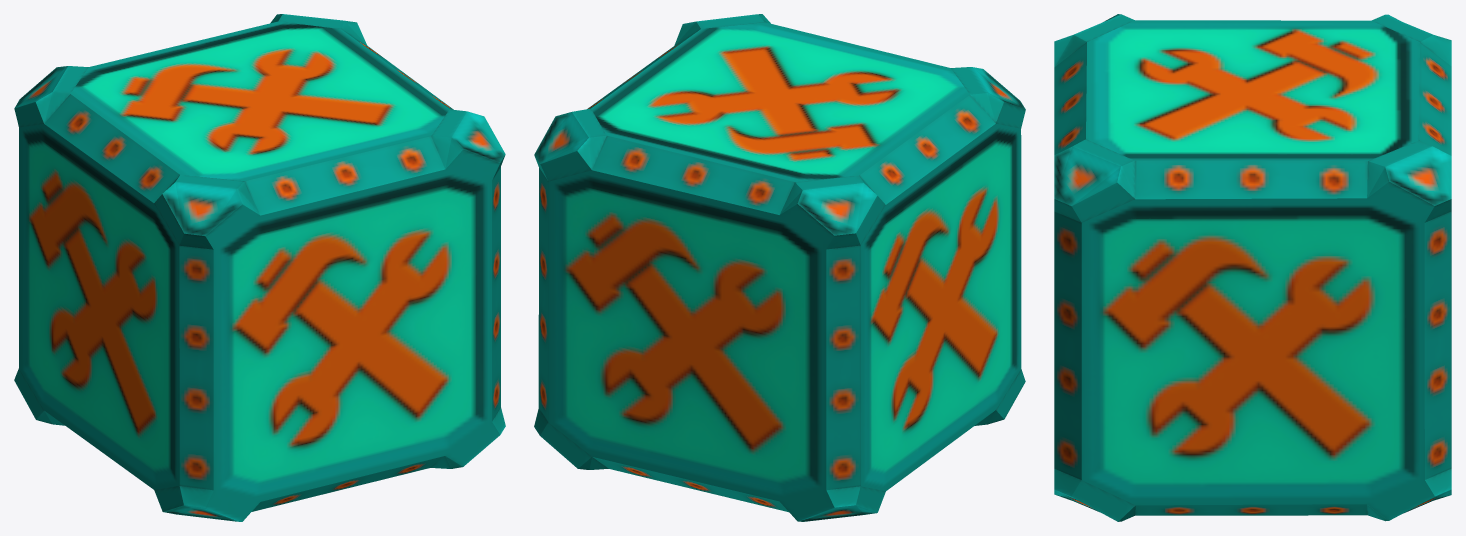
File: item_box.fbx
3 renders of one model, left to right at view 1: azimuth 30°, elevation 25°; view 2: azimuth 150°, elevation 25°; view 3: azimuth 270°, elevation 25°, orthographic. The views are drawn at different scales.
Visible parts, largest first — view 1: Tools; view 2: Tools; view 3: Tools.
Boxes of the visible parts, x1,y1,x2,y2 form: Tools: (14,14,505,521); Tools: (534,14,1025,521); Tools: (1054,14,1451,521).
Bounding box in the file's own units: 870 × 871 × 859.
1 material, 1 textured.
